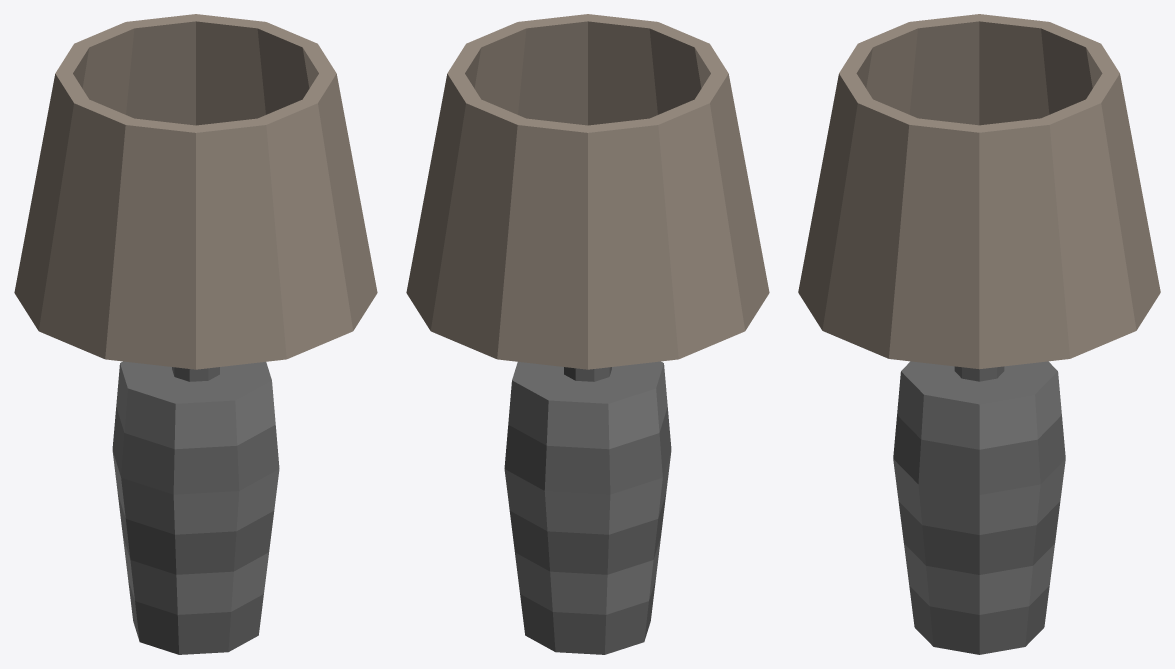
Rendered from Light_07.fbx.
3 views of the same model, side by side, from view 1: azimuth 30°, elevation 25°; view 2: azimuth 150°, elevation 25°; view 3: azimuth 270°, elevation 25° (orthographic).
Parts seen in each view (by area): view 1: Light_07; view 2: Light_07; view 3: Light_07.
Boxes of the visible parts, x1=… form: Light_07: x1=14, y1=14, x2=377, y2=654; Light_07: x1=406, y1=14, x2=769, y2=654; Light_07: x1=798, y1=14, x2=1160, y2=654.
Bounding box in the file's own units: 0.3091 × 0.5211 × 0.3091.
